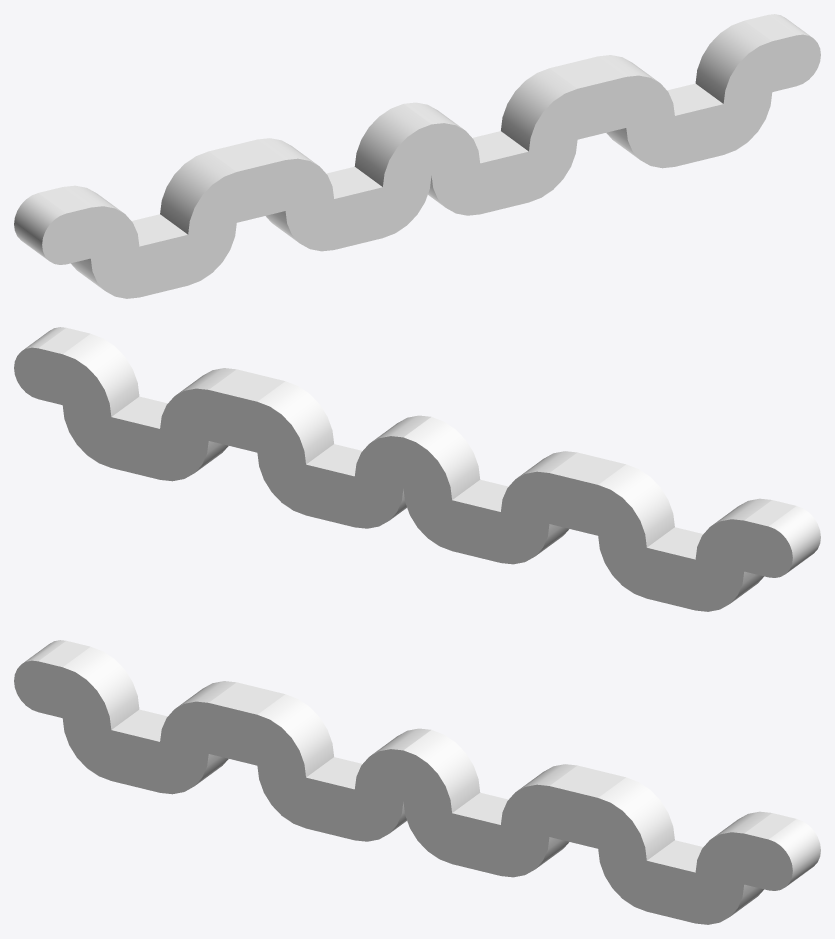
Rendered from WaveModelBruh.glb.
3 renders of one model, top to bottom at view 1: azimuth 30°, elevation 25°; view 2: azimuth 150°, elevation 25°; view 3: azimuth 330°, elevation 25°, orthographic.
Visible parts, largest first — view 1: generated(Clone); view 2: generated(Clone); view 3: generated(Clone).
Boxes of the visible parts, left/top/right/bottom form: generated(Clone): left=14, top=14, right=820, bottom=298; generated(Clone): left=14, top=327, right=820, bottom=611; generated(Clone): left=14, top=640, right=820, bottom=924.
Size of the model in its own units: 16 by 2 by 1.
1 material, 1 textured.
